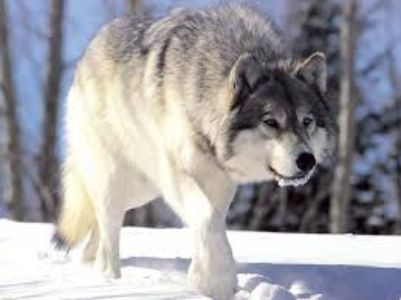wolf: (44, 8, 338, 298)
